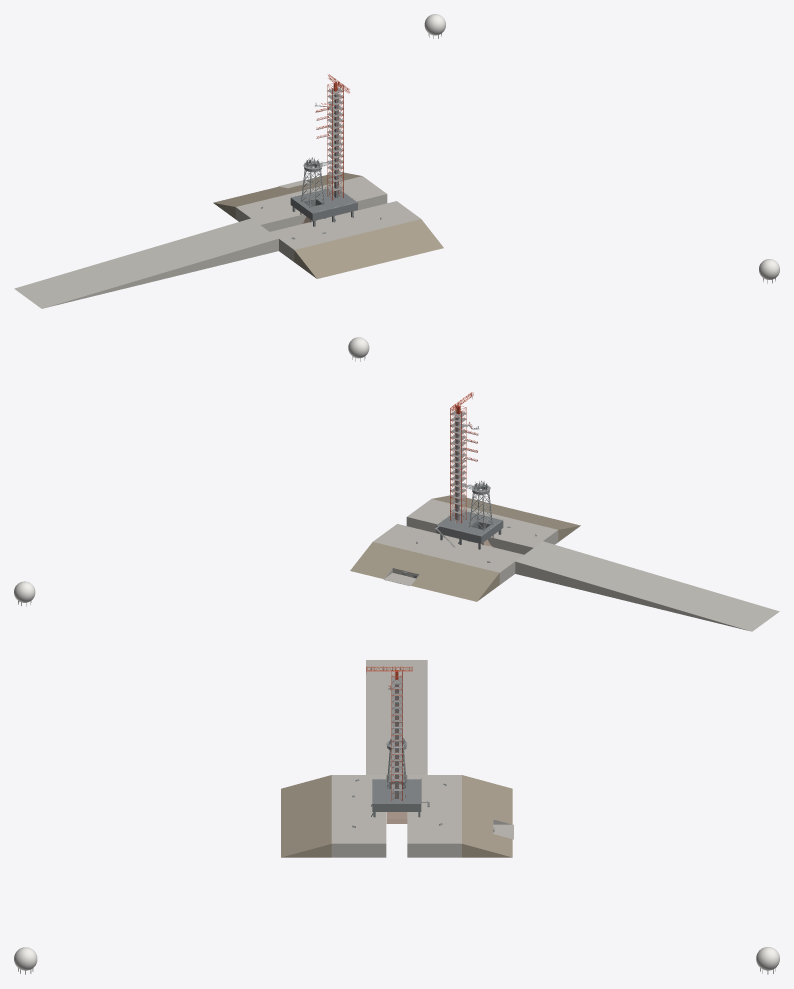
The model's file is pad-b-1973-07.lod1.glb.
3 views of the same model, one above another, from view 1: azimuth 30°, elevation 25°; view 2: azimuth 150°, elevation 25°; view 3: azimuth 270°, elevation 25° (orthographic). The views are drawn at different scales.
Visible parts, largest first — view 1: Hardstand_Concrete, Hardstand_Earth, Launcher_Base_Steel, Umbilical_Tower_Deck, Umbilical_Tower_Red, Storage_Spheres_White; view 2: Hardstand_Concrete, Hardstand_Earth, Launcher_Base_Steel, Umbilical_Tower_Deck, Umbilical_Tower_Red, Storage_Spheres_White; view 3: Hardstand_Concrete, Hardstand_Earth, Launcher_Base_Steel, Umbilical_Tower_Deck, Storage_Spheres_White, Umbilical_Tower_Red.
Boxes of the visible parts, x1,y1,x2,y2 form: Hardstand_Concrete: (14, 176, 420, 308); Hardstand_Earth: (213, 172, 443, 278); Launcher_Base_Steel: (290, 189, 357, 220); Umbilical_Tower_Deck: (327, 87, 343, 191); Umbilical_Tower_Red: (327, 82, 343, 200); Storage_Spheres_White: (424, 14, 779, 279); Hardstand_Concrete: (373, 499, 779, 631); Hardstand_Earth: (350, 495, 580, 601); Launcher_Base_Steel: (436, 511, 503, 543); Umbilical_Tower_Deck: (450, 410, 468, 514); Umbilical_Tower_Red: (450, 405, 466, 523); Storage_Spheres_White: (14, 337, 369, 602); Hardstand_Concrete: (331, 660, 512, 857); Hardstand_Earth: (281, 775, 512, 857); Launcher_Base_Steel: (372, 779, 421, 811); Umbilical_Tower_Deck: (388, 676, 402, 790); Storage_Spheres_White: (14, 947, 779, 970); Umbilical_Tower_Red: (391, 670, 402, 800).
Bounding box in the file's own units: 630 × 149 × 645.
